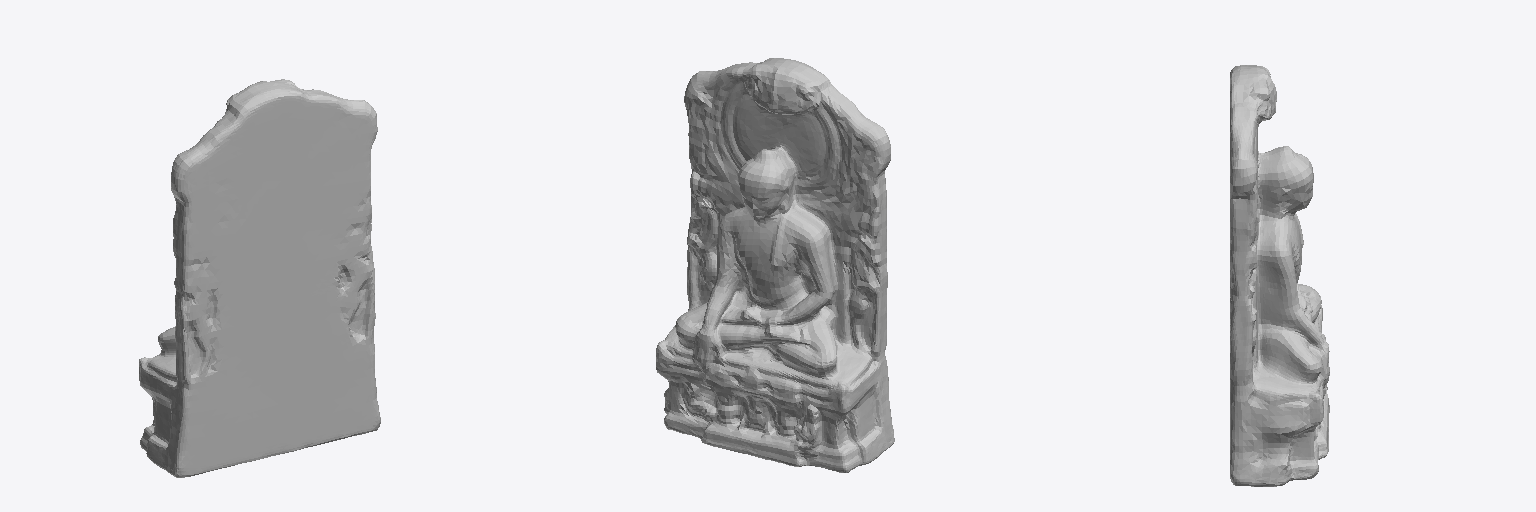
Rendered from Bhuda_C1.obj.
3 views of the same model, side by side, from view 1: azimuth 30°, elevation 25°; view 2: azimuth 150°, elevation 25°; view 3: azimuth 270°, elevation 25° (orthographic).
Parts seen in each view (by area): view 1: CL_default18; view 2: CL_default18; view 3: CL_default18.
Boxes of the visible parts, x1=… form: CL_default18: x1=139, y1=79, x2=380, y2=477; CL_default18: x1=656, y1=58, x2=894, y2=472; CL_default18: x1=1230, y1=65, x2=1329, y2=486.
Size of the model in its own units: 19.69 by 32.67 by 8.15.